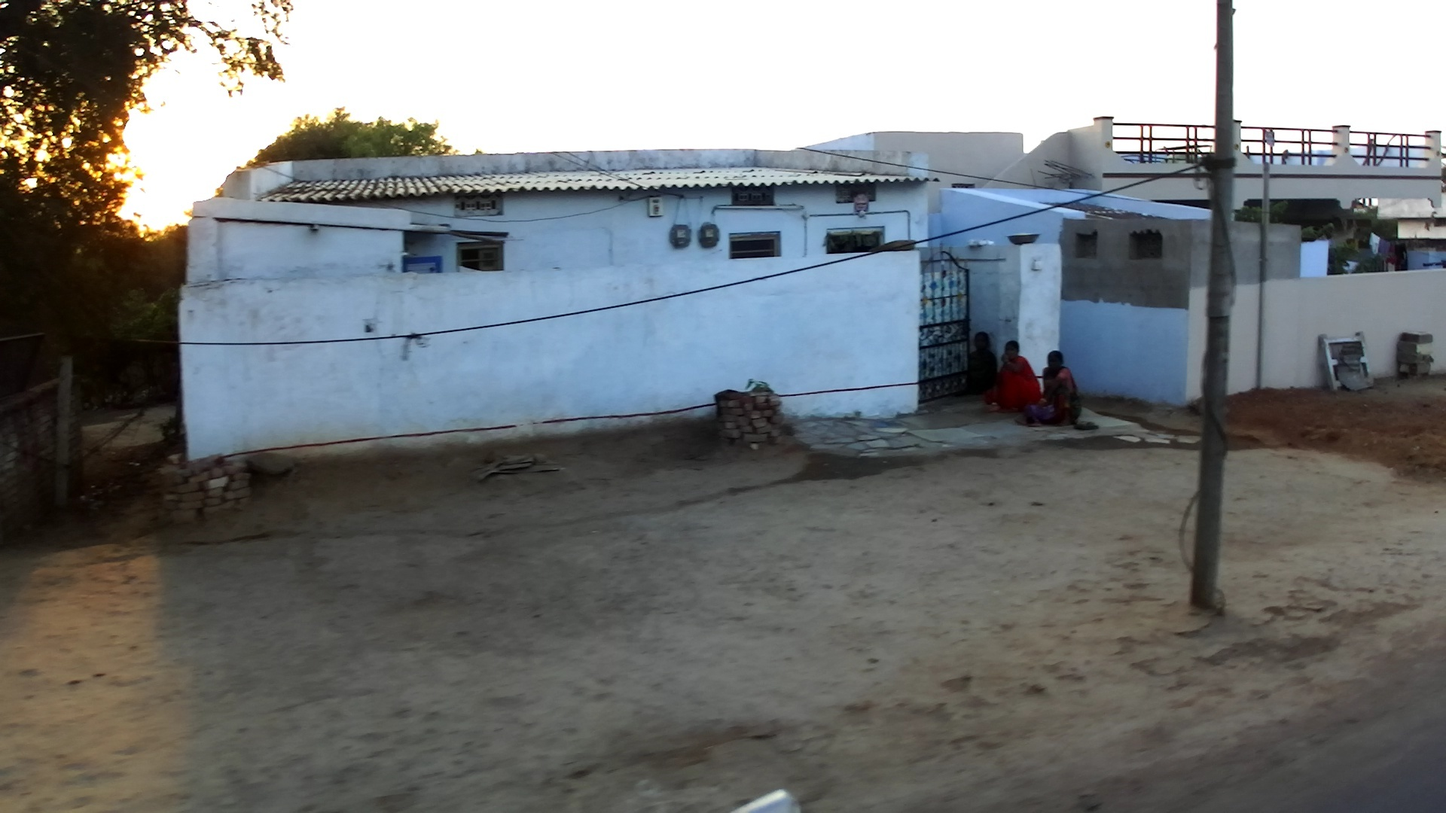person: (1022, 349, 1083, 428), (986, 338, 1041, 415), (959, 329, 996, 396)
